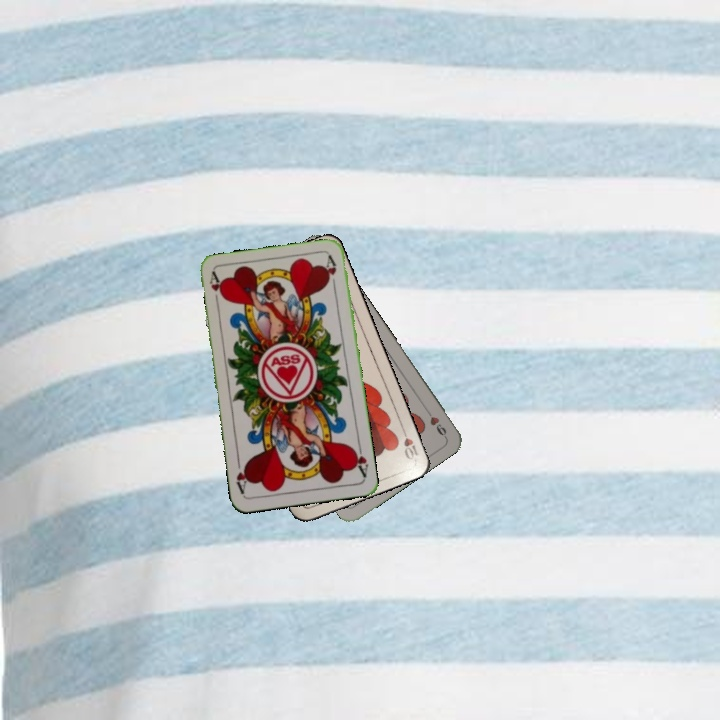H10: (398, 423, 422, 463)
H9: (421, 404, 449, 440)
HA: (348, 439, 371, 480), (206, 269, 225, 310)
